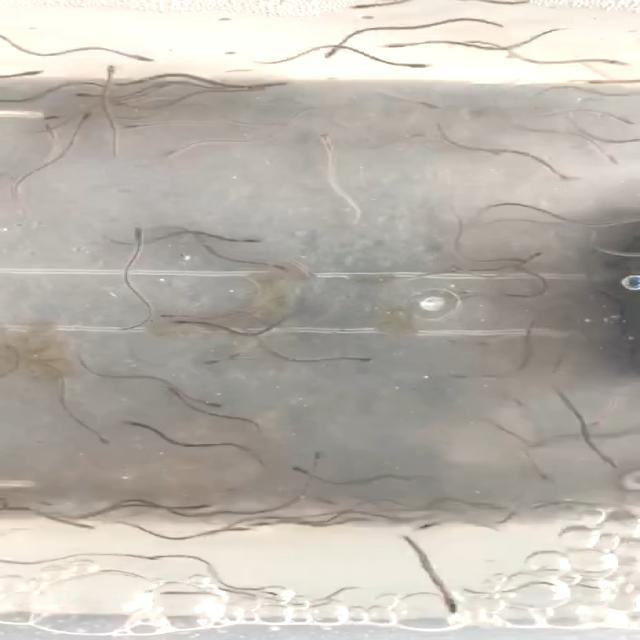active_glass_eel: (100, 218, 166, 240), (122, 45, 156, 73), (316, 131, 348, 159), (164, 317, 206, 338), (402, 59, 438, 83), (519, 248, 558, 270), (272, 268, 310, 290), (344, 356, 388, 374), (82, 520, 109, 546), (156, 145, 190, 165), (596, 151, 630, 171), (240, 234, 274, 254), (185, 496, 221, 514), (312, 44, 341, 66), (418, 98, 453, 116), (298, 446, 332, 464), (557, 171, 590, 189), (11, 66, 51, 80), (386, 40, 421, 56), (100, 437, 134, 453), (89, 63, 127, 77), (120, 118, 146, 138), (152, 305, 180, 323), (199, 396, 231, 411), (604, 110, 630, 128), (148, 382, 180, 396), (128, 416, 152, 432), (442, 601, 466, 617), (333, 4, 380, 12), (78, 111, 100, 127), (282, 462, 310, 474), (604, 56, 626, 71), (601, 456, 620, 472), (35, 120, 55, 135), (70, 88, 88, 104), (542, 470, 550, 484)
